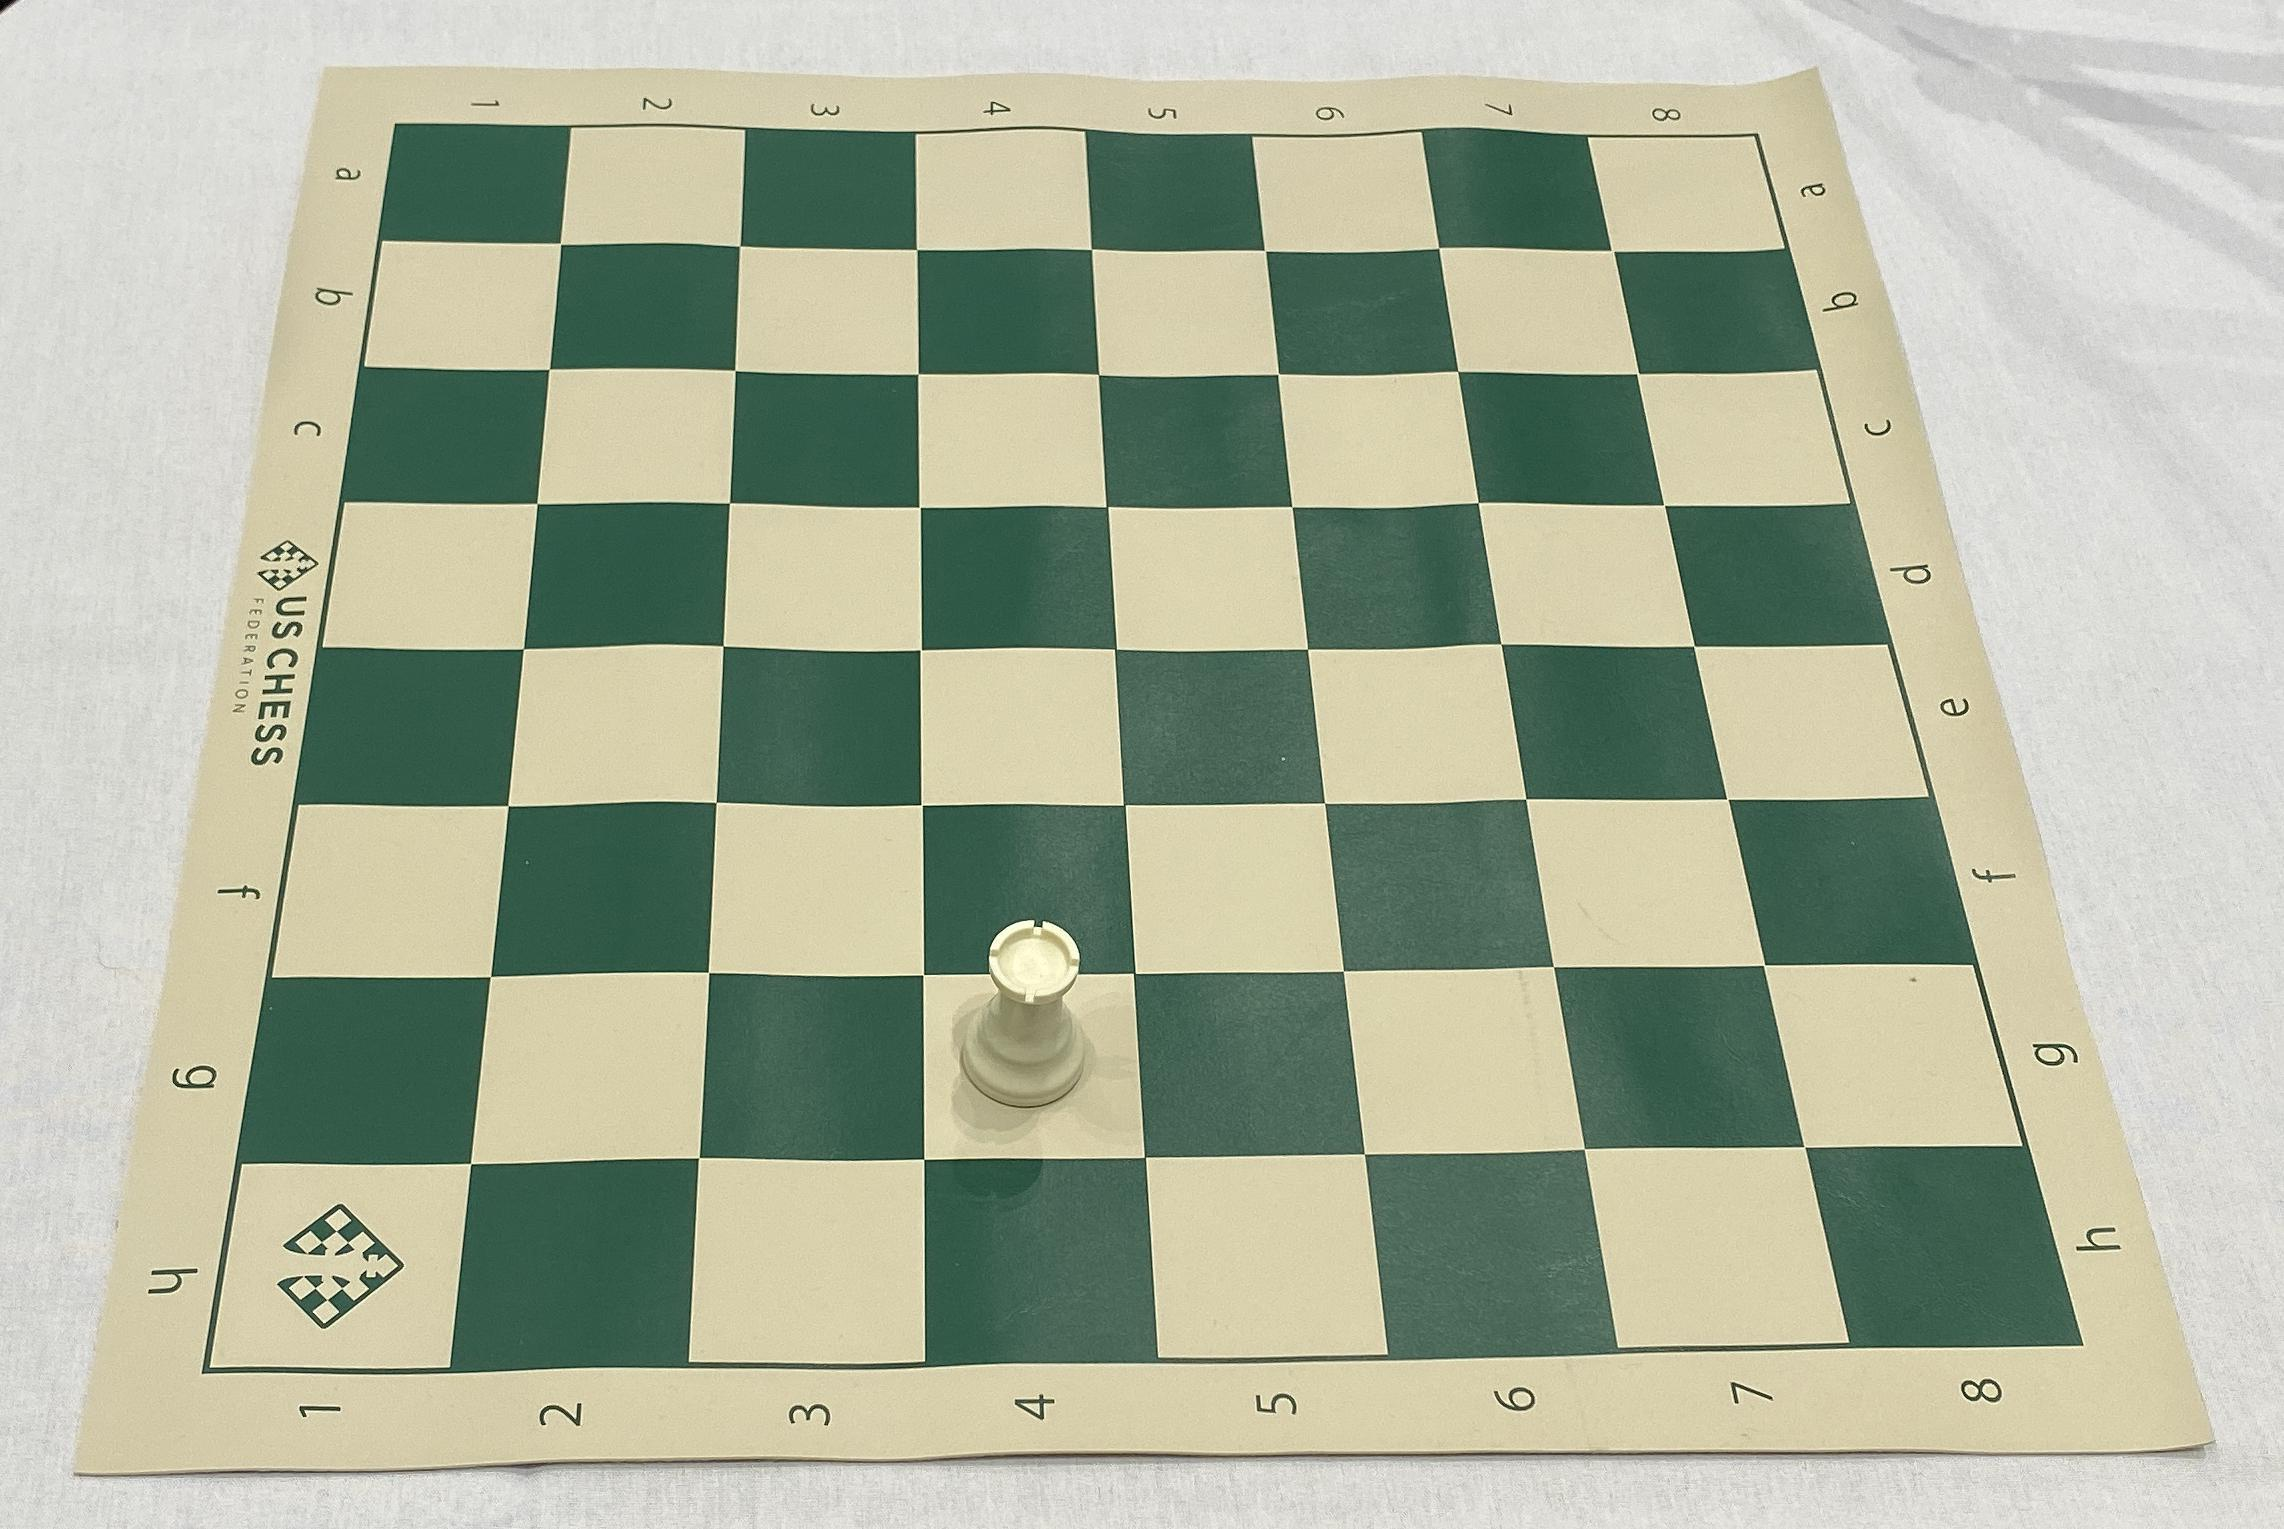white-rook: (955, 918, 1093, 1114)
